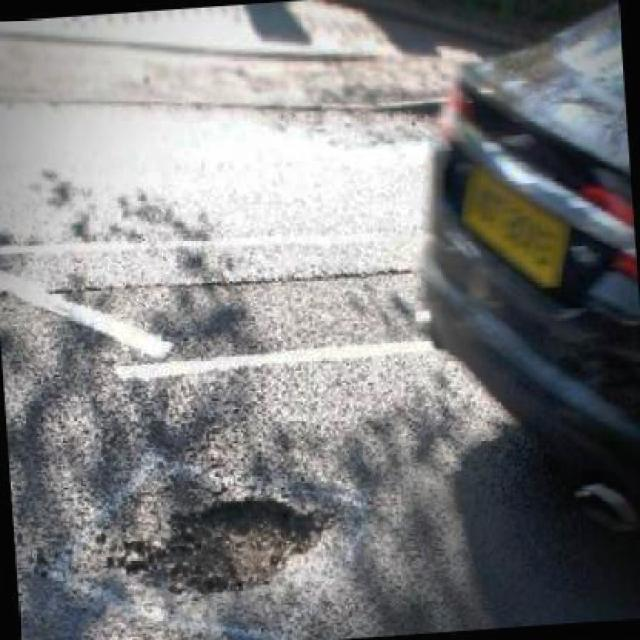pothole: (116, 494, 327, 600)
